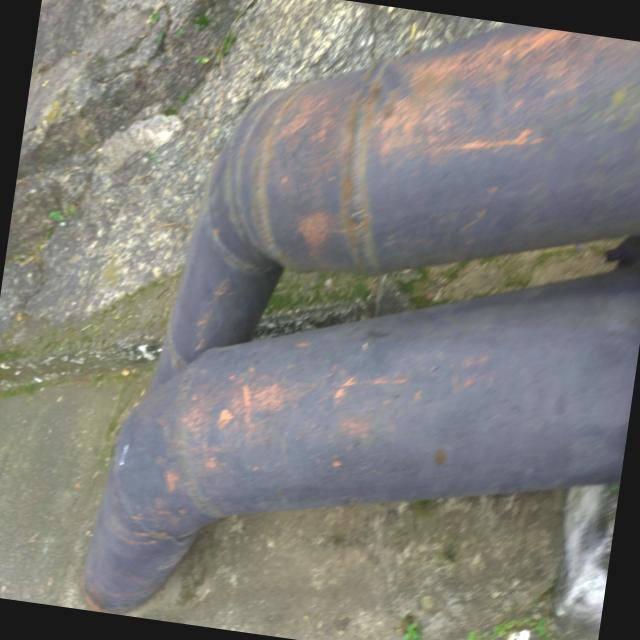gas: (77, 279, 640, 614), (149, 27, 640, 397)
